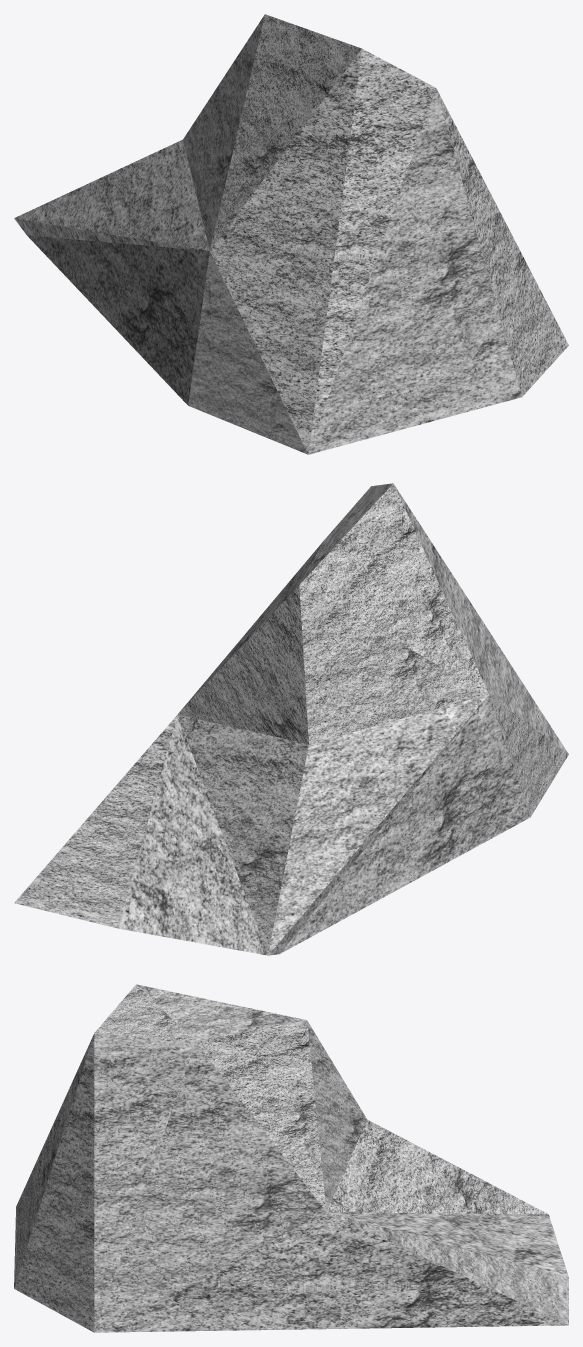
Rendered from rock2.fbx.
The picture shows the model from 3 angles, top to bottom: view 1: azimuth 30°, elevation 25°; view 2: azimuth 150°, elevation 25°; view 3: azimuth 270°, elevation 25°; orthographic projection. The views are drawn at different scales.
Parts seen in each view (by area): view 1: GeoSphere006; view 2: GeoSphere006; view 3: GeoSphere006.
Part boxes in pixels (x1,y1,x2,y2): GeoSphere006: [14, 14, 568, 454]; GeoSphere006: [14, 483, 568, 955]; GeoSphere006: [14, 984, 568, 1332].
Bounding box in the file's own units: 52.55 × 48.04 × 86.43.
1 material, 1 textured.
